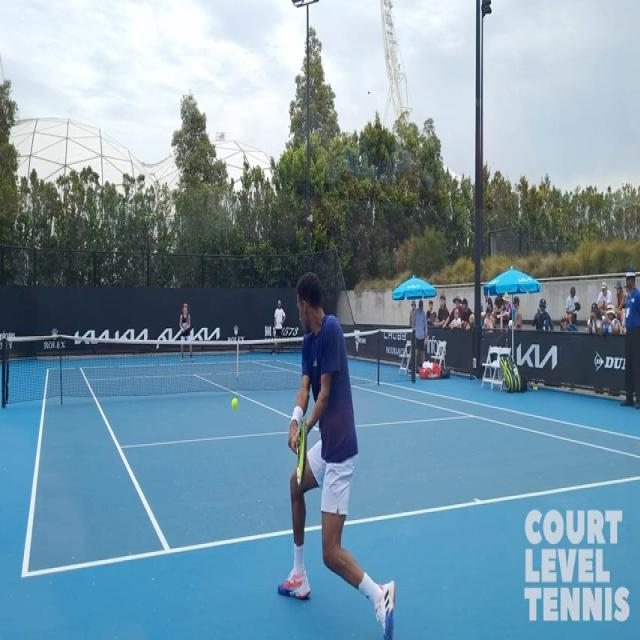backhand-stroke: (271, 251, 421, 640)
